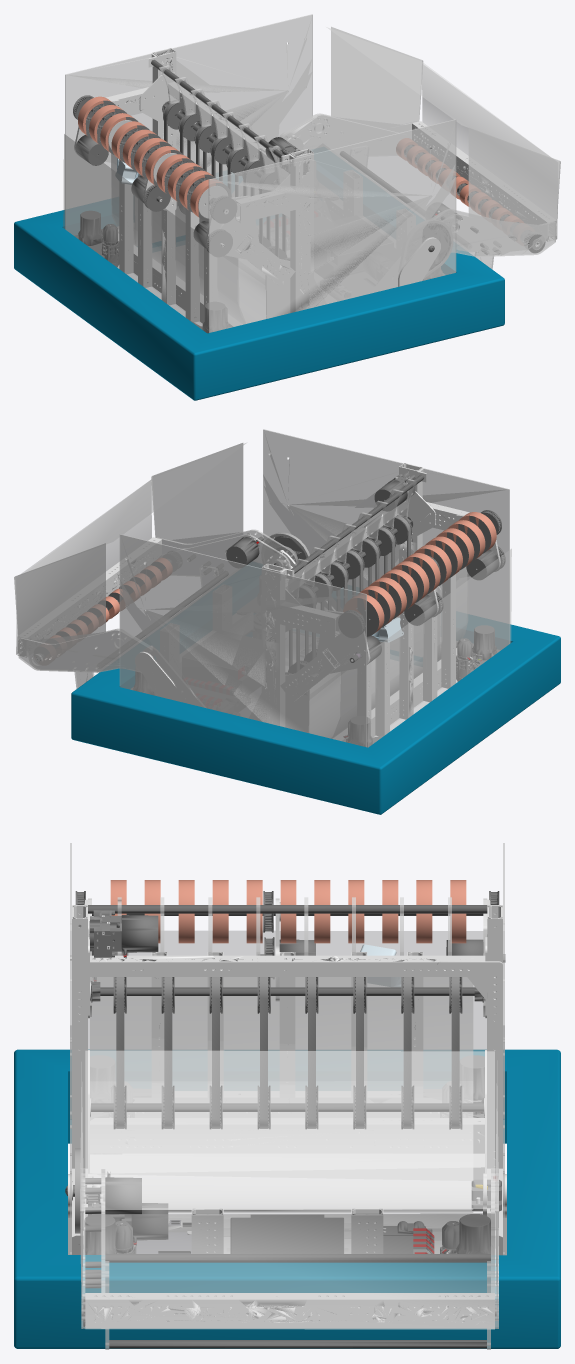
3 renders of one model, top to bottom at view 1: azimuth 30°, elevation 25°; view 2: azimuth 150°, elevation 25°; view 3: azimuth 270°, elevation 25°, orthographic. The views are drawn at different scales.
Parts seen in each view (by area): view 1: Wall.001, Bumper, Wall, Part 1, Feeder Shoot, Intake Side, Intake Side.001, Intake Angle, Outer Intake.001, Intake Front, Tube 2"x1"x25.651", Tube 2"x1"x17.255".001 (+33 smaller); view 2: Wall, Bumper, Wall.001, Part 1, Feeder Shoot, Intake Side.001, Intake Side, Intake Angle, Outer Intake, Intake Front, Tube 2"x1"x25.651", Tube 2"x1"x17.255" (+37 smaller); view 3: Feeder Shoot, Intake Angle, Bumper, Intake Front, Tube 2"x1"x25.651", Tube 1"x1"x24.75", Part 1, Robot Battery, Tube 2"x1"x17.255".001, Tube 2"x1"x17.255", 1/2" Rounded Hex (25" L, 13.75mm OD), 1/2" Rounded Hex (24.151" L, 13.75mm OD) (+43 smaller).
Boxes of the visible parts, x1,y1,x2,y2 form: Wall.001: [208, 119, 456, 332]; Bumper: [14, 210, 504, 400]; Wall: [65, 14, 312, 235]; Part 1: [63, 134, 207, 333]; Feeder Shoot: [111, 143, 404, 323]; Intake Side: [468, 127, 560, 235]; Intake Side.001: [331, 26, 423, 132]; Intake Angle: [326, 27, 551, 157]; Outer Intake.001: [442, 213, 555, 256]; Intake Front: [422, 64, 557, 238]; Tube 2"x1"x25.651": [412, 121, 556, 241]; Tube 2"x1"x17.255".001: [290, 149, 313, 312]; Wall: [119, 534, 366, 747]; Bumper: [71, 624, 560, 814]; Wall.001: [263, 429, 509, 649]; Part 1: [367, 548, 511, 747]; Feeder Shoot: [142, 558, 468, 738]; Intake Side.001: [14, 543, 105, 650]; Intake Side: [151, 443, 243, 548]; Intake Angle: [21, 443, 246, 573]; Outer Intake: [18, 629, 151, 672]; Intake Front: [16, 480, 151, 654]; Tube 2"x1"x25.651": [17, 537, 161, 657]; Tube 2"x1"x17.255": [261, 563, 285, 726]; Feeder Shoot: [90, 977, 473, 1212]; Intake Angle: [85, 1050, 494, 1210]; Bumper: [14, 1049, 560, 1348]; Intake Front: [85, 1213, 494, 1329]; Tube 2"x1"x25.651": [85, 1293, 494, 1328]; Tube 1"x1"x24.75": [90, 955, 485, 976]; Part 1: [88, 930, 486, 1055]; Robot Battery: [230, 1214, 344, 1253]; Tube 2"x1"x17.255".001: [72, 905, 87, 1168]; Tube 2"x1"x17.255": [487, 905, 502, 1168]; 1/2" Rounded Hex (25" L, 13.75mm OD): [88, 905, 487, 913]; 1/2" Rounded Hex (24.151" L, 13.75mm OD): [105, 1254, 490, 1262].
Bounding box in the file's own units: 108 × 55.9 × 86.99.
